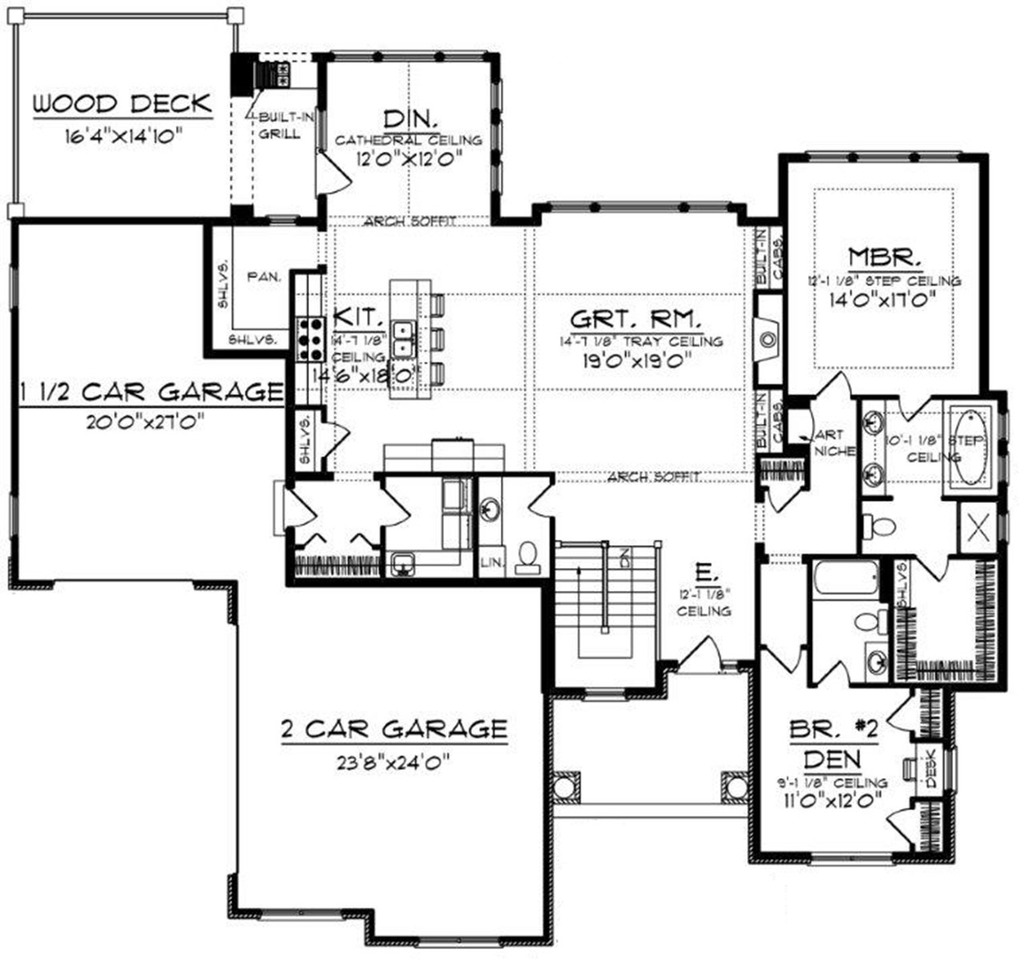door: (304, 146, 355, 200), (269, 490, 327, 527), (881, 801, 927, 846), (879, 688, 921, 737), (372, 487, 418, 531), (755, 637, 806, 676), (672, 637, 727, 673), (889, 393, 936, 428), (525, 476, 561, 518), (310, 424, 358, 455), (763, 484, 813, 513), (813, 658, 852, 694), (810, 366, 851, 400), (916, 551, 951, 585)
kitchen_bar: (382, 270, 460, 406)
large_sink: (861, 504, 900, 546), (510, 539, 542, 579), (855, 612, 894, 642)
sink: (386, 555, 422, 585)
small_sink: (861, 403, 892, 498), (473, 482, 504, 545)
stairs: (543, 537, 666, 693)
tub: (809, 558, 886, 603)
twin_sink: (386, 316, 422, 367)
window: (549, 198, 728, 221), (249, 898, 354, 933), (485, 76, 510, 196), (804, 851, 895, 873), (418, 934, 501, 957), (942, 743, 966, 800)
